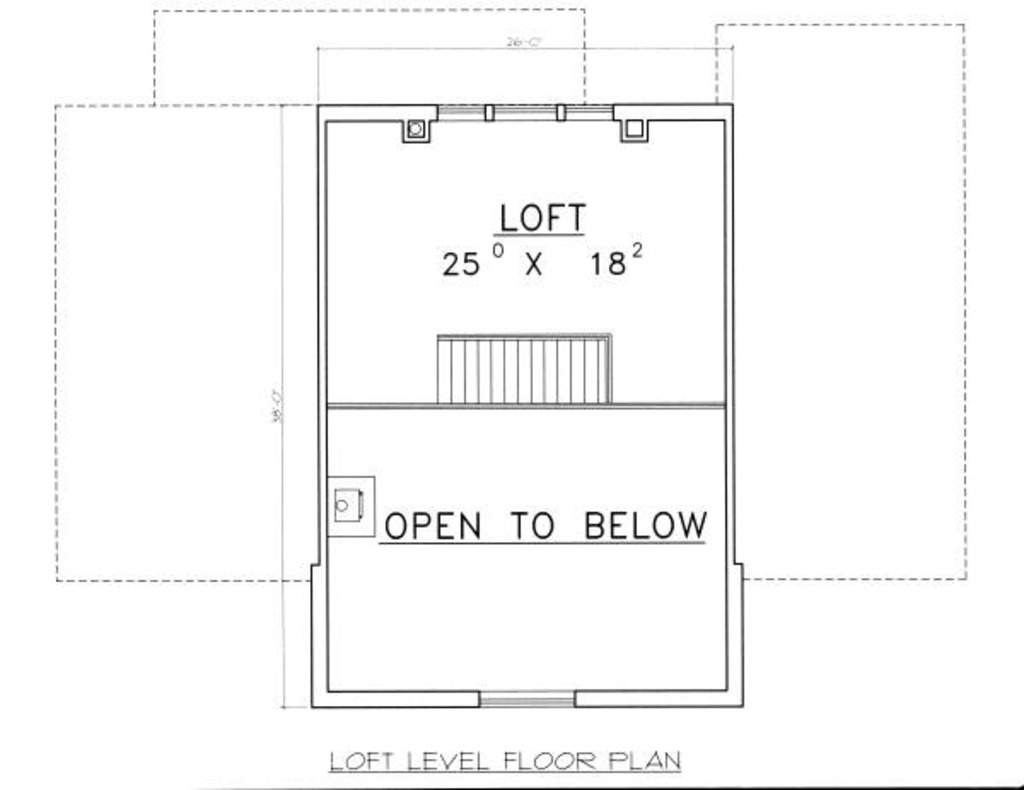stairs: (419, 316, 618, 412)
window: (478, 683, 580, 714)
